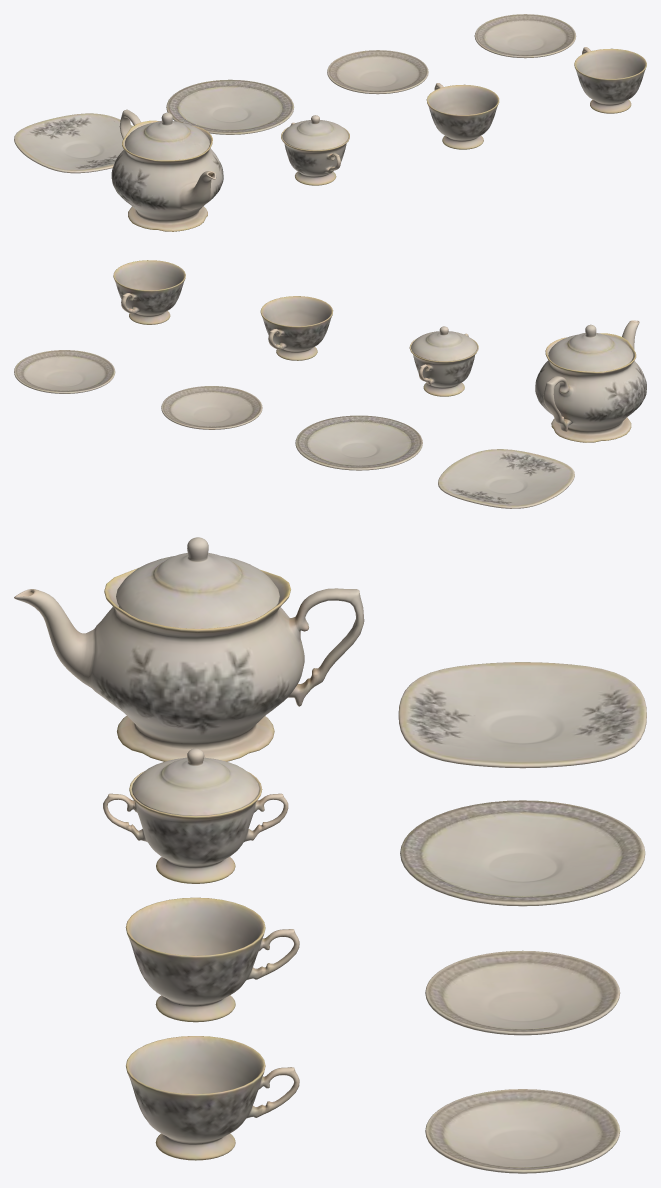
The model's file is tea_set_01.glb.
3 views of the same model, one above another, from view 1: azimuth 30°, elevation 25°; view 2: azimuth 150°, elevation 25°; view 3: azimuth 270°, elevation 25° (orthographic). The views are drawn at different scales.
Visible parts, largest first — view 1: tea_set_01_plate_large_square_01; view 2: tea_set_01_plate_large_square_01; view 3: tea_set_01_plate_large_square_01.
Part boxes in pixels (x1,y1,x2,y2): tea_set_01_plate_large_square_01: [14, 14, 646, 231]; tea_set_01_plate_large_square_01: [14, 260, 646, 508]; tea_set_01_plate_large_square_01: [14, 537, 646, 1173].
Bounding box in the file's own units: 0.9185 × 0.1649 × 0.4839.
1 material, 1 textured.
